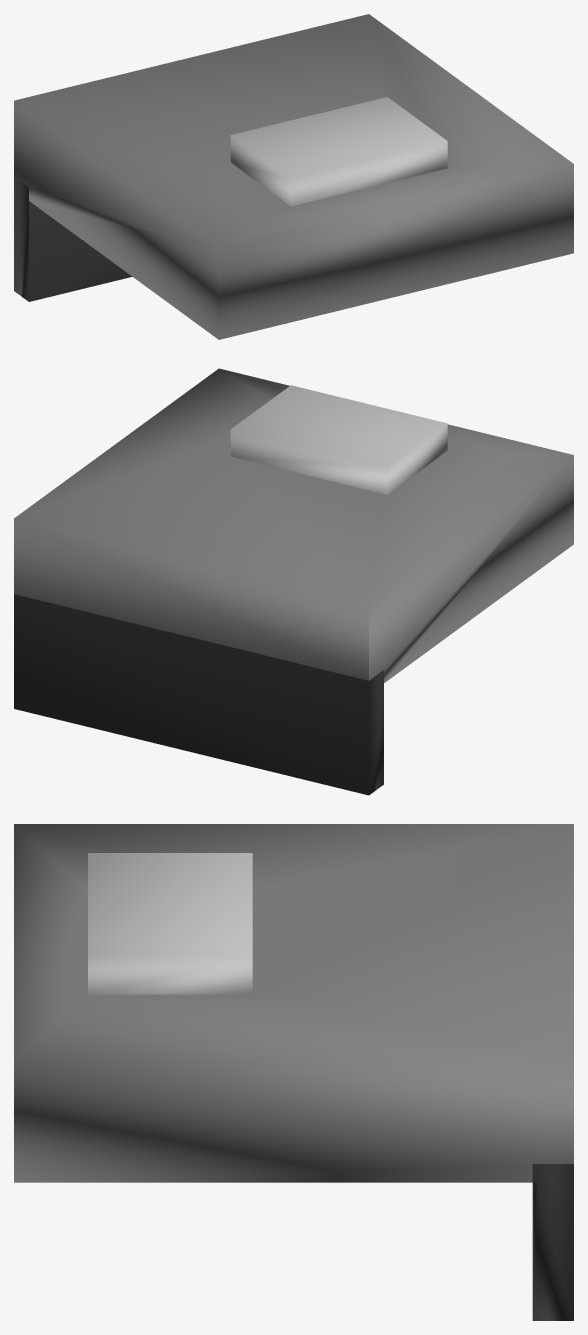
3 views of the same model, one above another, from view 1: azimuth 30°, elevation 25°; view 2: azimuth 150°, elevation 25°; view 3: azimuth 270°, elevation 25° (orthographic). The views are drawn at different scales.
Visible parts, largest first — view 1: mesh; view 2: mesh; view 3: mesh.
Boxes of the visible parts, x1,y1,x2,y2 form: mesh: [14, 14, 573, 339]; mesh: [14, 368, 573, 795]; mesh: [14, 824, 573, 1320].
Size of the model in its own units: 1.36 by 0.797 by 1.36.
1 material, 1 textured.
